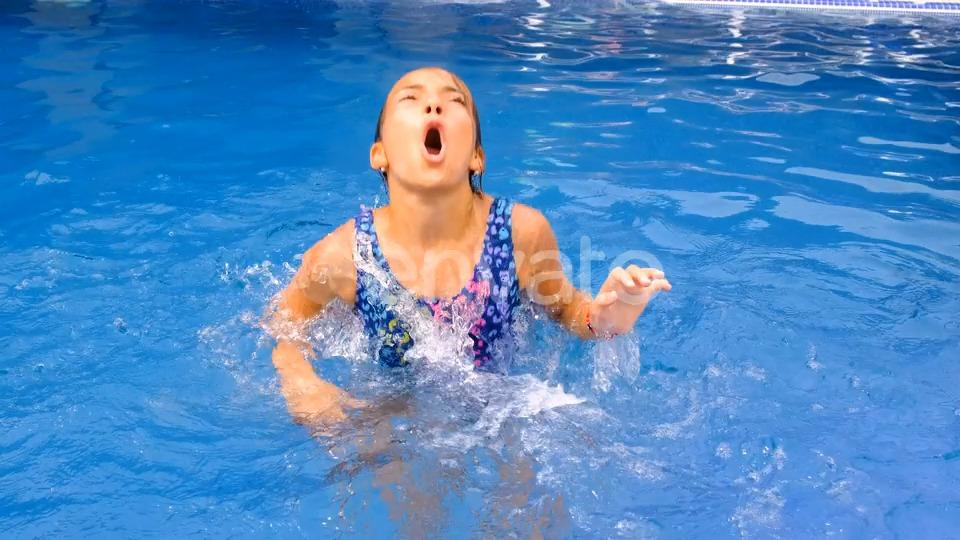Drowning: (129, 23, 787, 445)
